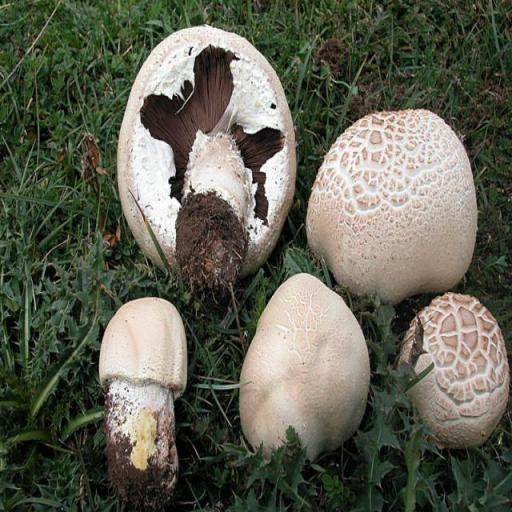mushroom: (118, 24, 298, 291), (306, 111, 479, 302), (239, 269, 370, 462), (98, 296, 187, 498), (398, 290, 509, 446)
